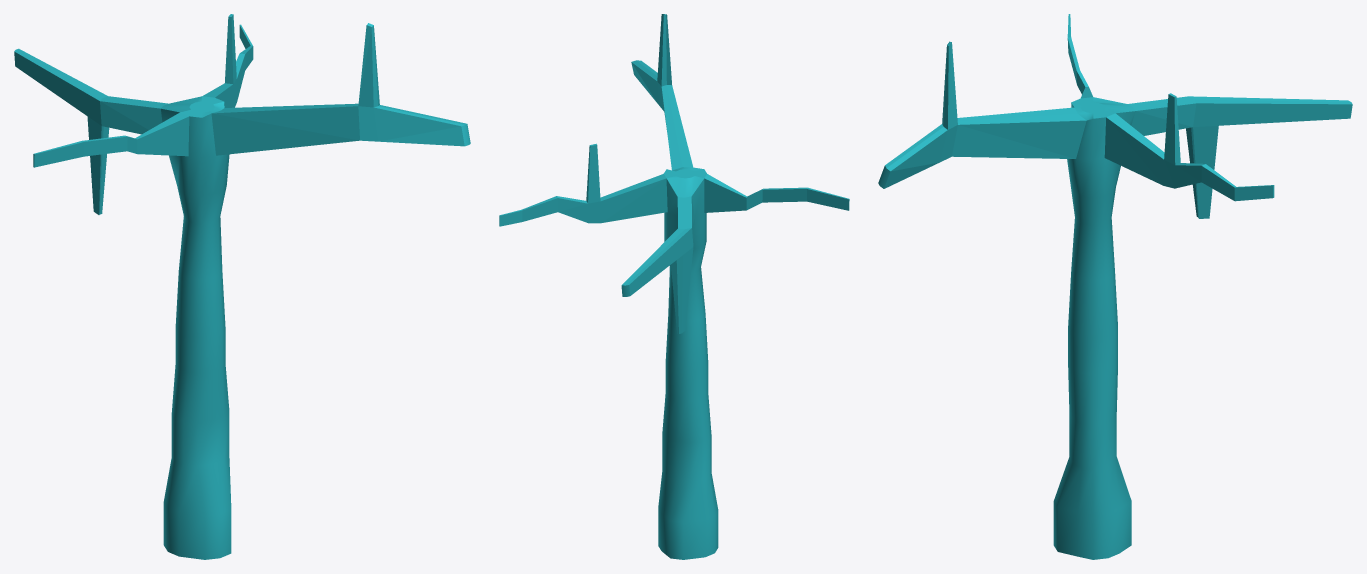
The model's file is Tree 3.fbx.
3 views of the same model, side by side, from view 1: azimuth 30°, elevation 25°; view 2: azimuth 150°, elevation 25°; view 3: azimuth 270°, elevation 25° (orthographic). The views are drawn at different scales.
Parts seen in each view (by area): view 1: Tree 3; view 2: Tree 3; view 3: Tree 3.
Boxes of the visible parts, box(x1,y1,x2,y2) form: Tree 3: box(14, 14, 470, 559); Tree 3: box(499, 14, 849, 559); Tree 3: box(878, 14, 1352, 559).
Size of the model in its own units: 131 by 199 by 155.
Materials: 1 (1 with a texture image).
